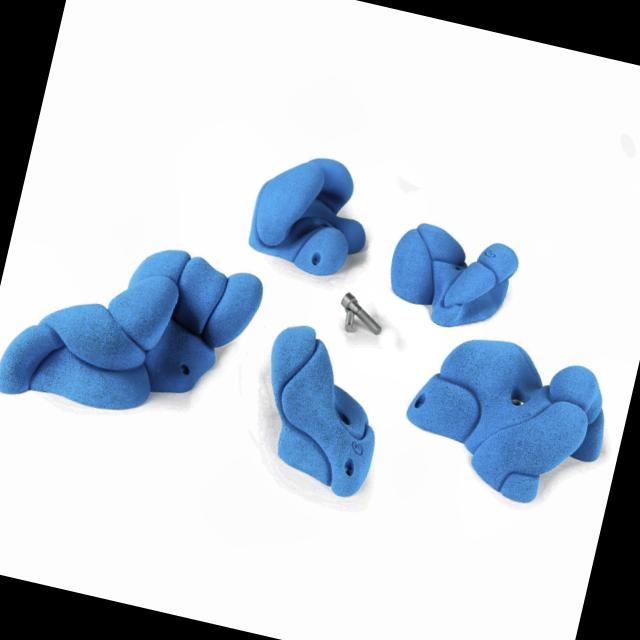Hold: (0, 215, 269, 444), (389, 314, 618, 524), (238, 319, 399, 506), (245, 145, 378, 284), (387, 213, 529, 334)
